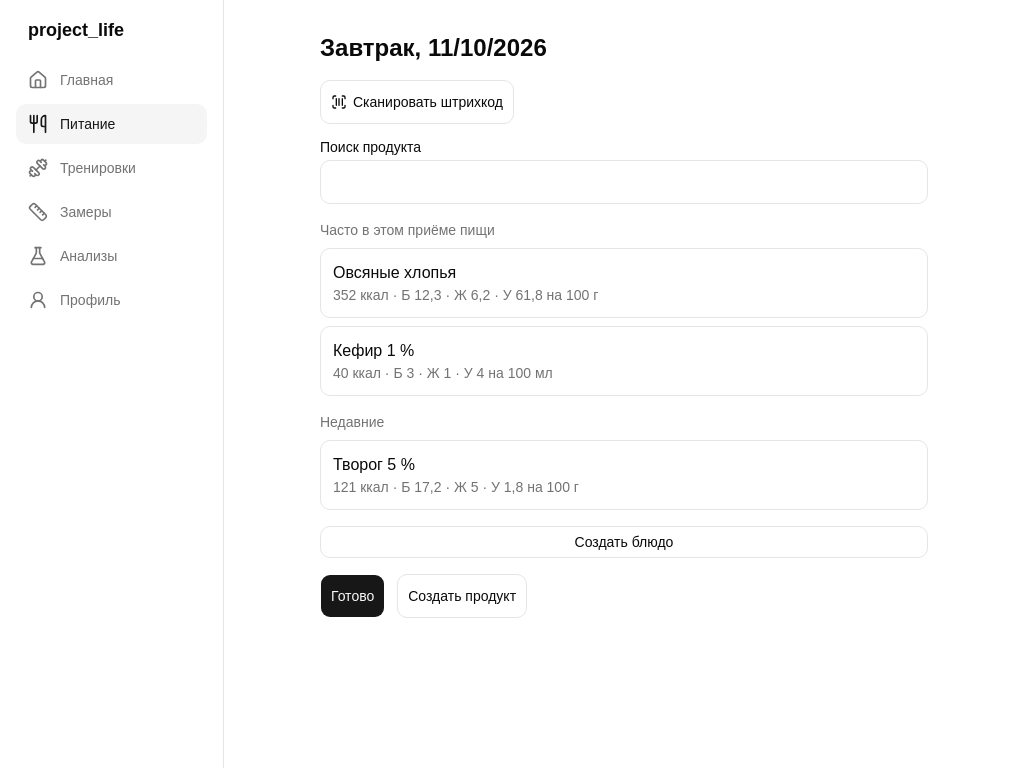
добавление в приём пищи › первым показывает то, что обычно едят в этот приём пищи
Check: the list named "Недавние" is shown, box [320,440,928,510]
Check: the text "40 ккал · Б 3 · Ж 1 · У 4 на 100 мл" is shown, box [333,365,553,381]
Click the button "Кефир 1 % 40 ккал · Б 3 · Ж 1 · У 4 на 100 мл".
click(374, 350)  # box [333,339,915,383]
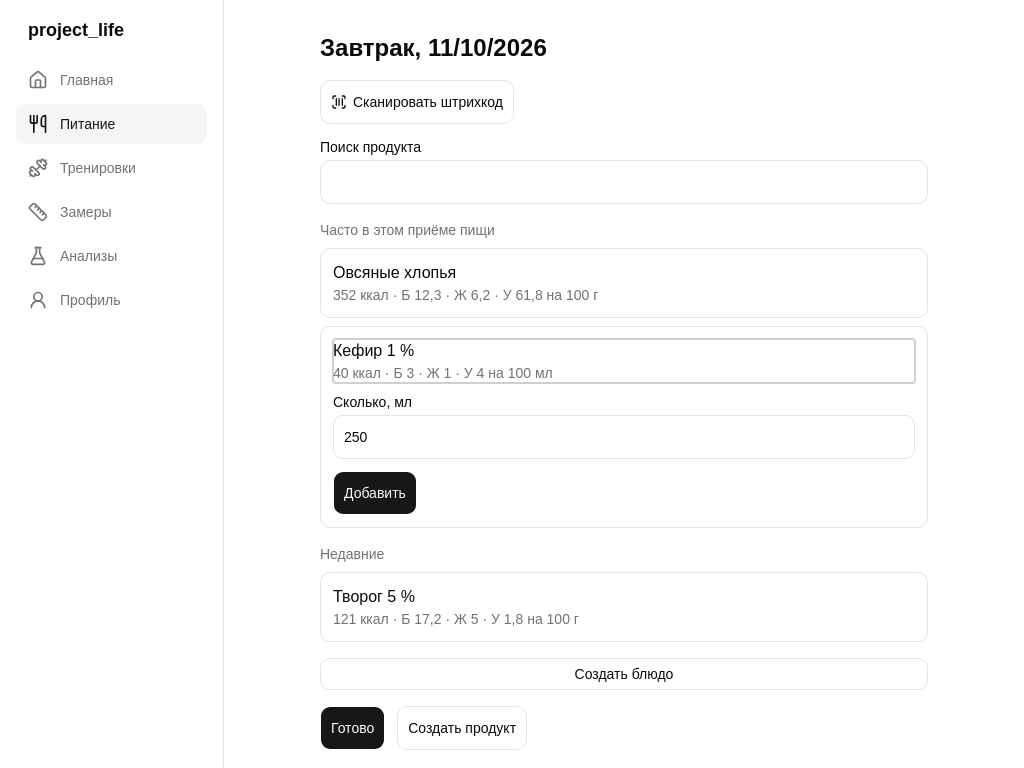
Check: the field labelled "Сколько, мл" holds "250", box [333,415,915,459]
Click the button "Добавить".
click(375, 493)  # box [333,471,417,515]
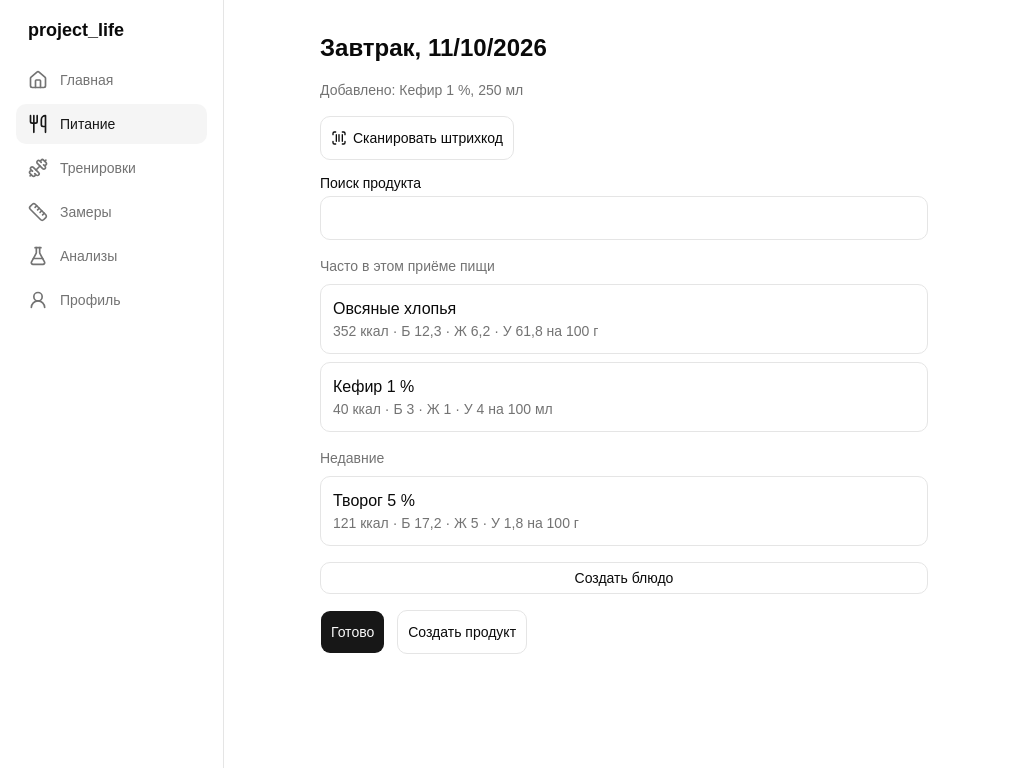
Check: the message reads "Добавлено: Кефир 1 %, 250 мл", box [320,82,523,98]
